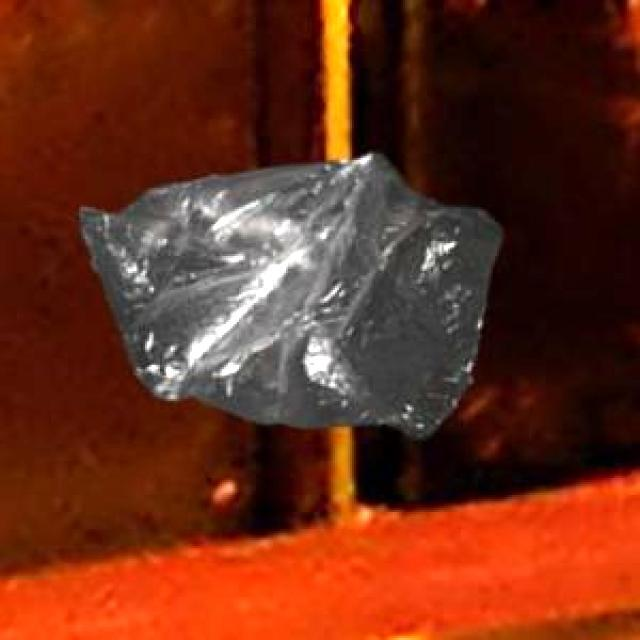Plastic_Bag: (76, 150, 498, 437)
